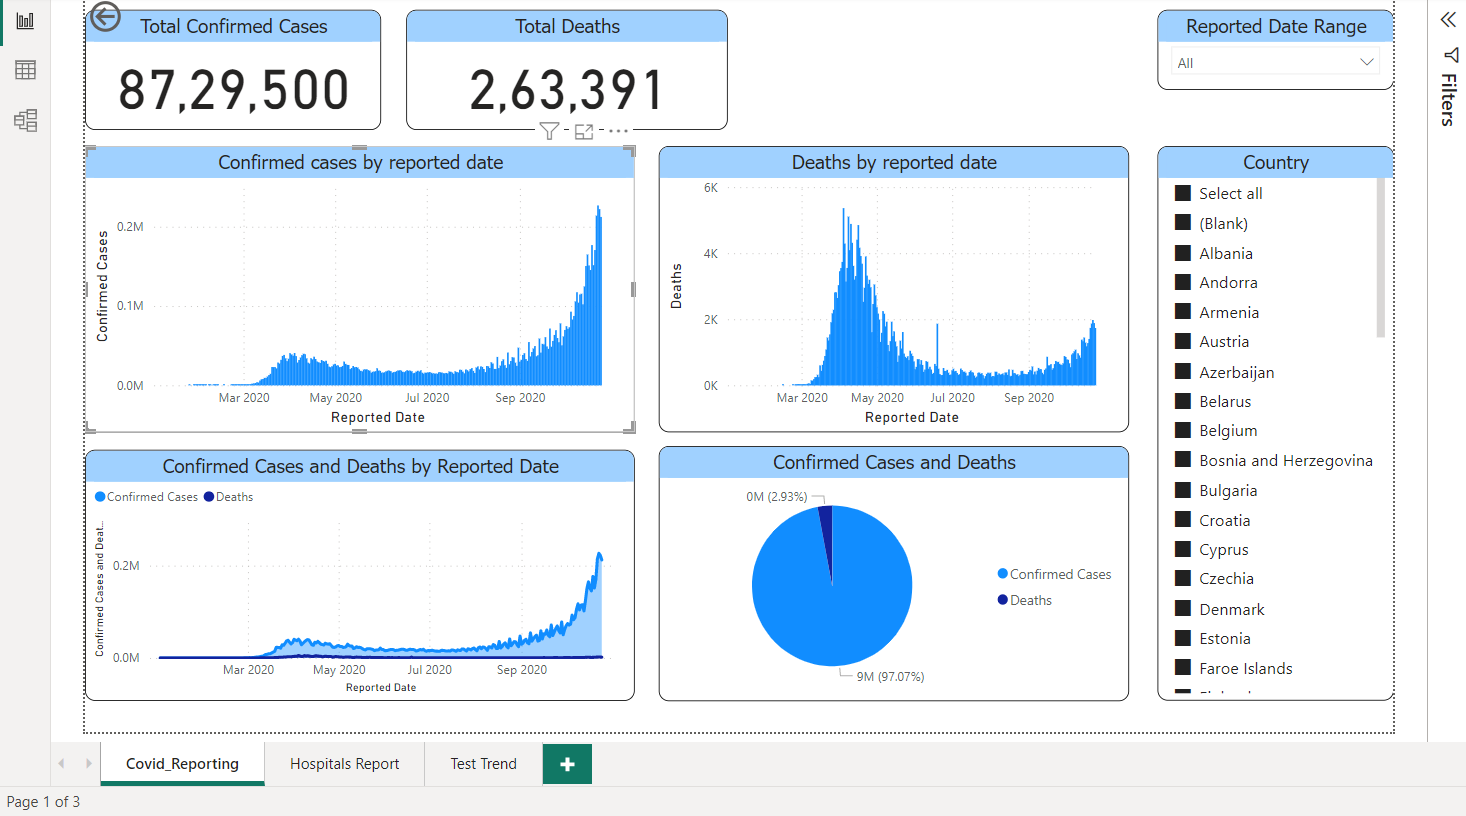

What the dashboard file says about the page in this screenshot:
{"tool":"powerbi","page":{"name":"Covid_Reporting","canvas":[1280,720],"ordinal":0},"visuals":[{"type":"card","title":"Total Confirmed Cases","fields":{"Values":["Sum(covid_reporting cases_and_deaths.cases_count)"]},"box":[0,13.4,289.7,117.4],"z":0},{"type":"columnChart","title":"Confirmed cases by reported date","fields":{"Category":["covid_reporting cases_and_deaths.reported_date"],"Y":["Sum(covid_reporting cases_and_deaths.cases_count)"]},"box":[0,146.7,537.9,279.9],"z":1000},{"type":"pieChart","fields":{"Y":["Sum(covid_reporting cases_and_deaths.cases_count)","Sum(covid_reporting cases_and_deaths.deaths_count)"]},"box":[561.1,440.1,459.6,249.4],"z":2000},{"type":"areaChart","fields":{"Y":["Sum(covid_reporting cases_and_deaths.cases_count)","Sum(covid_reporting cases_and_deaths.deaths_count)"],"Category":["covid_reporting cases_and_deaths.reported_date"]},"box":[0,443.7,537.9,245.7],"z":3000},{"type":"slicer","title":"Reported Date Range","fields":{"Values":["covid_reporting_dim dim_dt.year","covid_reporting_dim dim_dt.month_name","covid_reporting_dim dim_dt.date"]},"box":[1048.8,13.4,231,78.2],"z":4000},{"type":"card","title":"Total Deaths","fields":{"Values":["Sum(covid_reporting cases_and_deaths.deaths_count)"]},"box":[314.2,13.4,314.2,117.4],"z":5000},{"type":"slicer","title":"Country","fields":{"Values":["covid_reporting_dim lkp_cntry.country"]},"box":[1048.8,146.7,231,542.8],"z":6000},{"type":"columnChart","title":"Deaths by reported date","fields":{"Category":["covid_reporting cases_and_deaths.reported_date"],"Y":["Sum(covid_reporting cases_and_deaths.deaths_count)"]},"box":[561.1,146.7,459.6,279.9],"z":7000},{"type":"actionButton","box":[0,0,100,40],"z":8000}]}

Visuals, with their boxes on the page's 1280x720 design canvas (x1, y1, x2, y2). These are canvas units, not pixel positions in the 1466x816 screenshot, which may show the page scaled, cropped or inside an application window:
"Total Confirmed Cases" card: bbox=(0, 13, 290, 131)
"Confirmed cases by reported date" columnChart: bbox=(0, 147, 538, 427)
pieChart - Sum(covid_reporting cases_and_deaths.cases_count) x Sum(covid_reporting cases_and_deaths.deaths_count): bbox=(561, 440, 1021, 690)
areaChart - Sum(covid_reporting cases_and_deaths.cases_count) x Sum(covid_reporting cases_and_deaths.deaths_count): bbox=(0, 444, 538, 689)
"Reported Date Range" slicer: bbox=(1049, 13, 1280, 92)
"Total Deaths" card: bbox=(314, 13, 628, 131)
"Country" slicer: bbox=(1049, 147, 1280, 690)
"Deaths by reported date" columnChart: bbox=(561, 147, 1021, 427)
actionButton: bbox=(0, 0, 100, 40)
